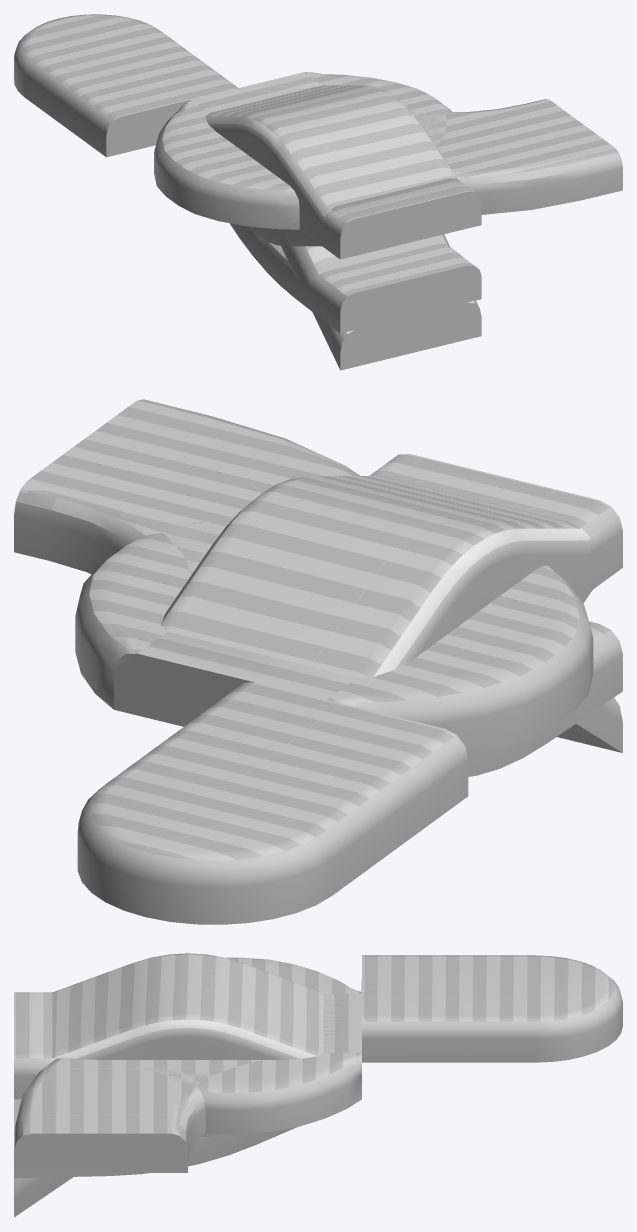
The model's file is Floor_2x2_SofterEdge_thin.fbx.
The picture shows the model from 3 angles, top to bottom: view 1: azimuth 30°, elevation 25°; view 2: azimuth 150°, elevation 25°; view 3: azimuth 270°, elevation 25°; orthographic projection. The views are drawn at different scales.
Parts seen in each view (by area): view 1: Floor_2x2_SrE_Th_hill, Floor_2x2_SrE_Th_cap, Floor_2x2_SrE_Th_rotate, Floor_2x2_SrE_Th_circle, Floor_2x2_SrE_Th_ramp1, Floor_2x2_SrE_Th_ramp2, Floor_2x2_SrE_Th_deep1, Floor_2x2_SrE_Th_main; view 2: Floor_2x2_SrE_Th_cap, Floor_2x2_SrE_Th_hill, Floor_2x2_SrE_Th_circle, Floor_2x2_SrE_Th_rotate, Floor_2x2_SrE_Th_deep1, Floor_2x2_SrE_Th_main, Floor_2x2_SrE_Th_ramp1, Floor_2x2_SrE_Th_ramp2; view 3: Floor_2x2_SrE_Th_cap, Floor_2x2_SrE_Th_hill, Floor_2x2_SrE_Th_rotate, Floor_2x2_SrE_Th_circle, Floor_2x2_SrE_Th_deep1, Floor_2x2_SrE_Th_ramp1, Floor_2x2_SrE_Th_main, Floor_2x2_SrE_Th_ramp2.
Boxes of the visible parts, x1,y1,x2,y2 form: Floor_2x2_SrE_Th_hill: [205, 85, 481, 259]; Floor_2x2_SrE_Th_cap: [14, 14, 237, 157]; Floor_2x2_SrE_Th_rotate: [412, 99, 622, 214]; Floor_2x2_SrE_Th_circle: [154, 72, 451, 229]; Floor_2x2_SrE_Th_ramp1: [230, 223, 481, 333]; Floor_2x2_SrE_Th_ramp2: [273, 229, 481, 370]; Floor_2x2_SrE_Th_deep1: [193, 72, 481, 258]; Floor_2x2_SrE_Th_main: [192, 72, 321, 112]; Floor_2x2_SrE_Th_cap: [77, 682, 468, 924]; Floor_2x2_SrE_Th_hill: [120, 476, 622, 677]; Floor_2x2_SrE_Th_circle: [75, 516, 593, 756]; Floor_2x2_SrE_Th_rotate: [14, 399, 359, 721]; Floor_2x2_SrE_Th_deep1: [138, 454, 622, 699]; Floor_2x2_SrE_Th_main: [114, 647, 355, 726]; Floor_2x2_SrE_Th_ramp1: [115, 621, 622, 776]; Floor_2x2_SrE_Th_ramp2: [557, 697, 622, 752]; Floor_2x2_SrE_Th_cap: [361, 955, 622, 1062]; Floor_2x2_SrE_Th_hill: [14, 953, 323, 1099]; Floor_2x2_SrE_Th_rotate: [14, 1052, 329, 1172]; Floor_2x2_SrE_Th_circle: [138, 957, 361, 1133]; Floor_2x2_SrE_Th_deep1: [14, 992, 361, 1137]; Floor_2x2_SrE_Th_ramp1: [14, 1099, 297, 1178]; Floor_2x2_SrE_Th_main: [323, 993, 361, 1052]; Floor_2x2_SrE_Th_ramp2: [14, 1173, 73, 1217].
Size of the model in its own units: 500 by 249 by 700.
